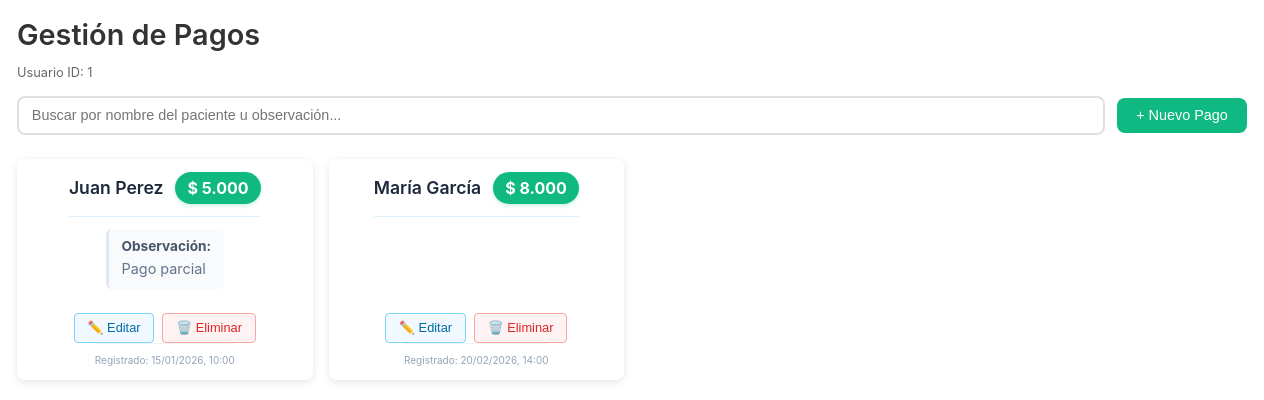
Test: Payments component › shows clear button when search term is active
Expected: the heading "Gestión de Pagos" is shown, [17,17,260,52]
Type "Juan" into the field with placeholder "Buscar por nombre del paciente u observación..." at (561,115), box [17,96,1105,135]
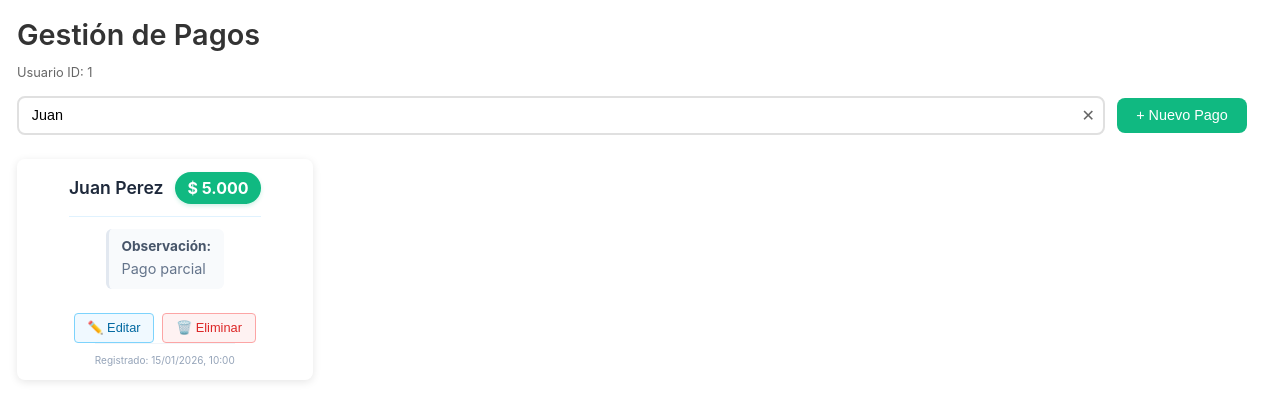
Result: the button titled "Limpiar búsqueda" is shown at [1080,104,1097,127]
